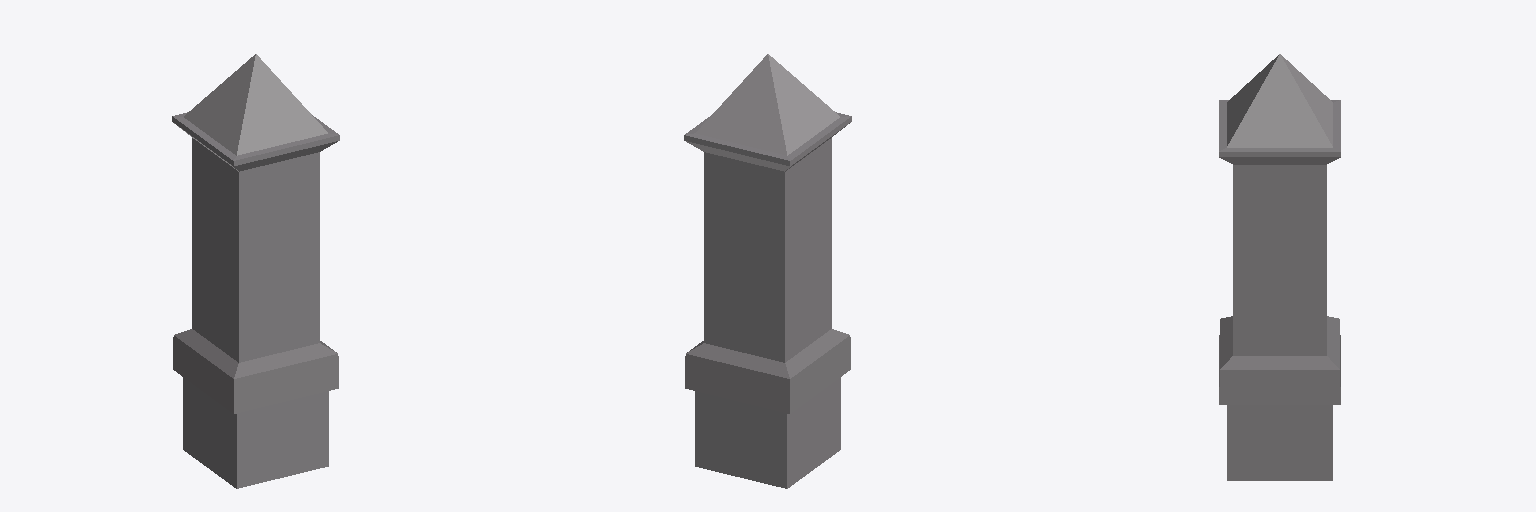
3 renders of one model, left to right at view 1: azimuth 30°, elevation 25°; view 2: azimuth 150°, elevation 25°; view 3: azimuth 270°, elevation 25°, orthographic.
Parts seen in each view (by area): view 1: 立方体.007; view 2: 立方体.007; view 3: 立方体.007.
Boxes of the visible parts, x1,y1,x2,y2 form: 立方体.007: [172, 54, 339, 488]; 立方体.007: [684, 54, 851, 488]; 立方体.007: [1219, 54, 1340, 480].
Bounding box in the file's own units: 2.31 × 8.39 × 2.31.
1 materials, 1 textured.